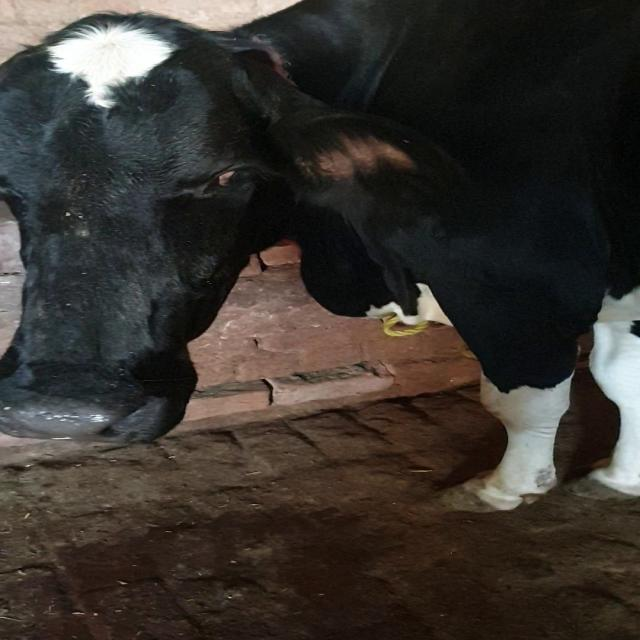cowFace: (0, 8, 287, 453)
